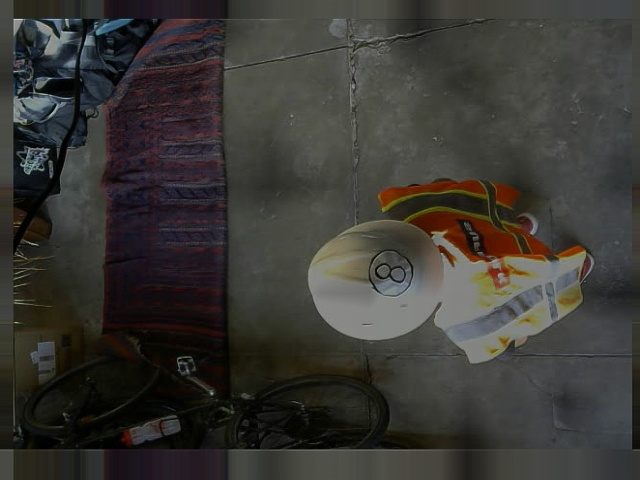eight: (367, 249, 412, 296)
